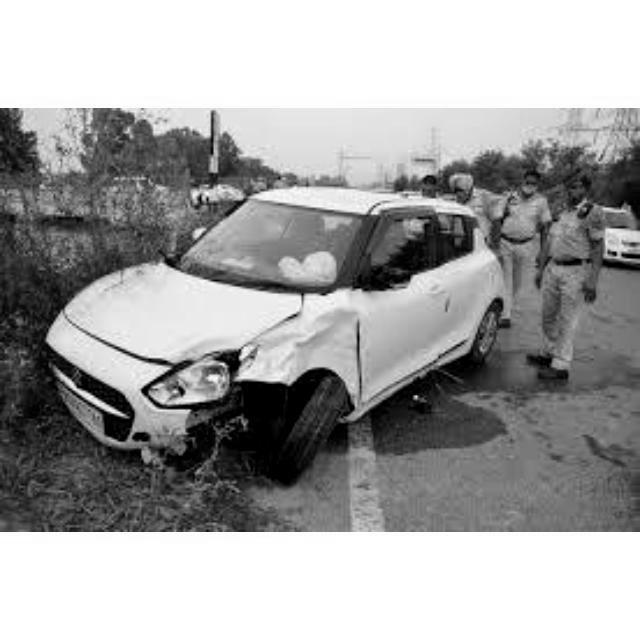fender-dent: (240, 341, 362, 443)
front-bumper-dent: (49, 345, 239, 470)
